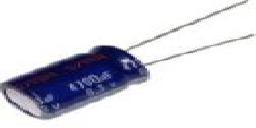Electrolytic-Capacitor: (1, 42, 151, 122)
